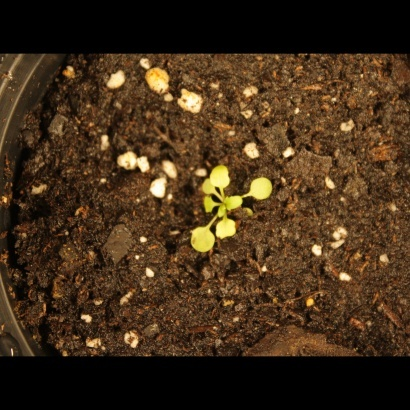leaf: (190, 226, 220, 259), (244, 174, 277, 201), (213, 216, 242, 244), (211, 161, 234, 187), (196, 172, 219, 195), (196, 192, 219, 215), (220, 190, 243, 213)
